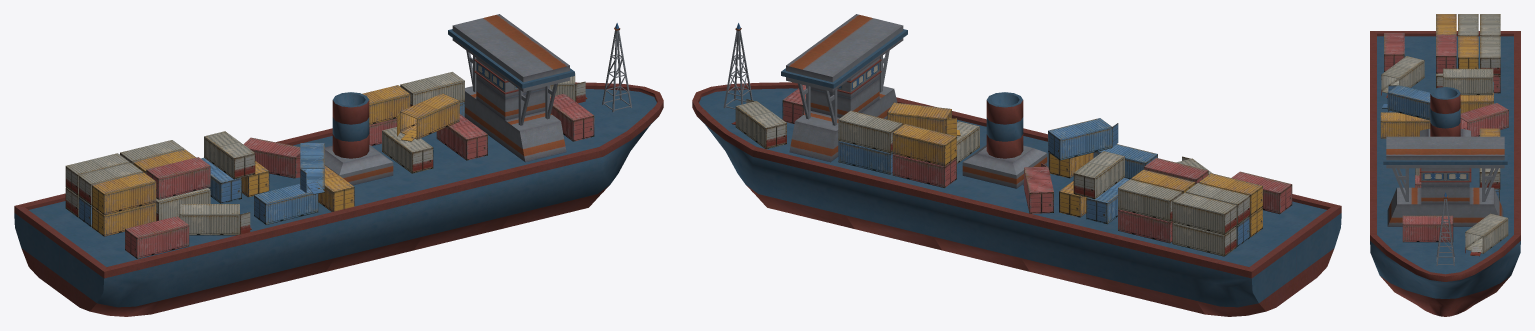
Rendered from Building_Hc01_lod1.glb.
3 renders of one model, left to right at view 1: azimuth 30°, elevation 25°; view 2: azimuth 150°, elevation 25°; view 3: azimuth 270°, elevation 25°, orthographic. The views are drawn at different scales.
Parts seen in each view (by area): view 1: xiutz_hc_01_lod1_0; view 2: xiutz_hc_01_lod1_0; view 3: xiutz_hc_01_lod1_0.
Part boxes in pixels (left/top/right/bottom): xiutz_hc_01_lod1_0: left=14, top=14, right=663, bottom=316; xiutz_hc_01_lod1_0: left=692, top=14, right=1341, bottom=316; xiutz_hc_01_lod1_0: left=1370, top=14, right=1520, bottom=316.
Bounding box in the file's own units: 129 × 32.34 × 33.56.
2 materials, 2 textured.
